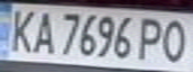6: (112, 12, 139, 61), (75, 10, 100, 57)
7: (54, 9, 81, 56)
9: (93, 11, 118, 60)
A: (27, 7, 57, 55)
K: (3, 6, 39, 55)
O: (154, 16, 193, 64)
P: (136, 15, 169, 62)
